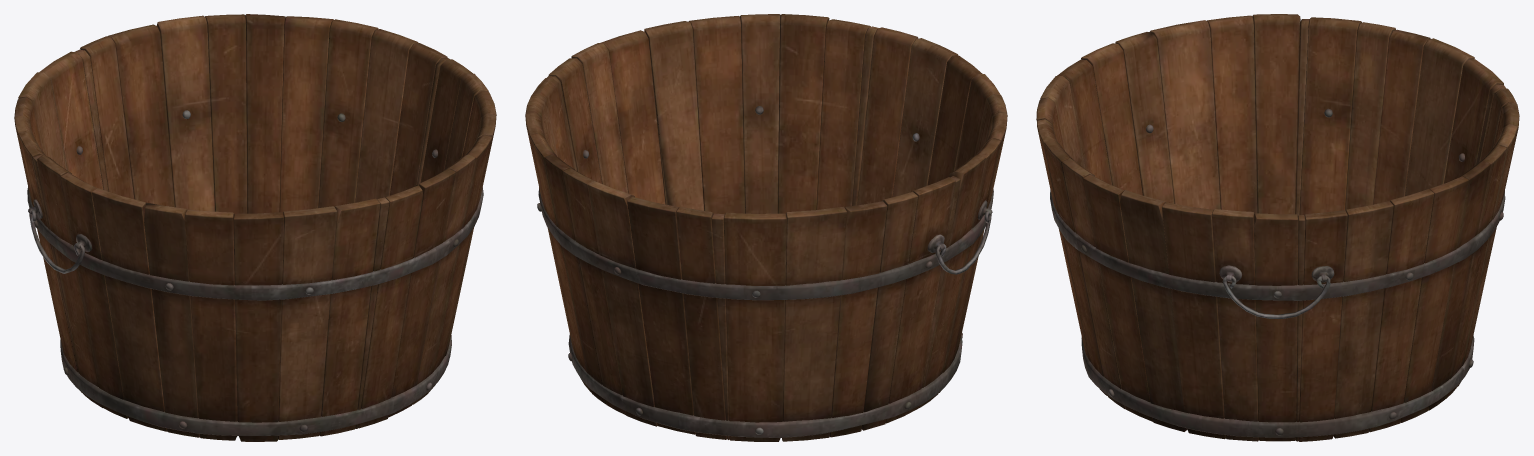
The model's file is wooden_bucket_02.glb.
3 renders of one model, left to right at view 1: azimuth 30°, elevation 25°; view 2: azimuth 150°, elevation 25°; view 3: azimuth 270°, elevation 25°, orthographic.
Parts seen in each view (by area): view 1: wooden_bucket_02; view 2: wooden_bucket_02; view 3: wooden_bucket_02.
Part boxes in pixels (<box>): wooden_bucket_02: <box>14,14,496,441</box>; wooden_bucket_02: <box>525,14,1007,441</box>; wooden_bucket_02: <box>1036,14,1519,441</box>.
Size of the model in its own units: 0.6153 by 0.3504 by 0.6163.
1 material, 1 textured.
